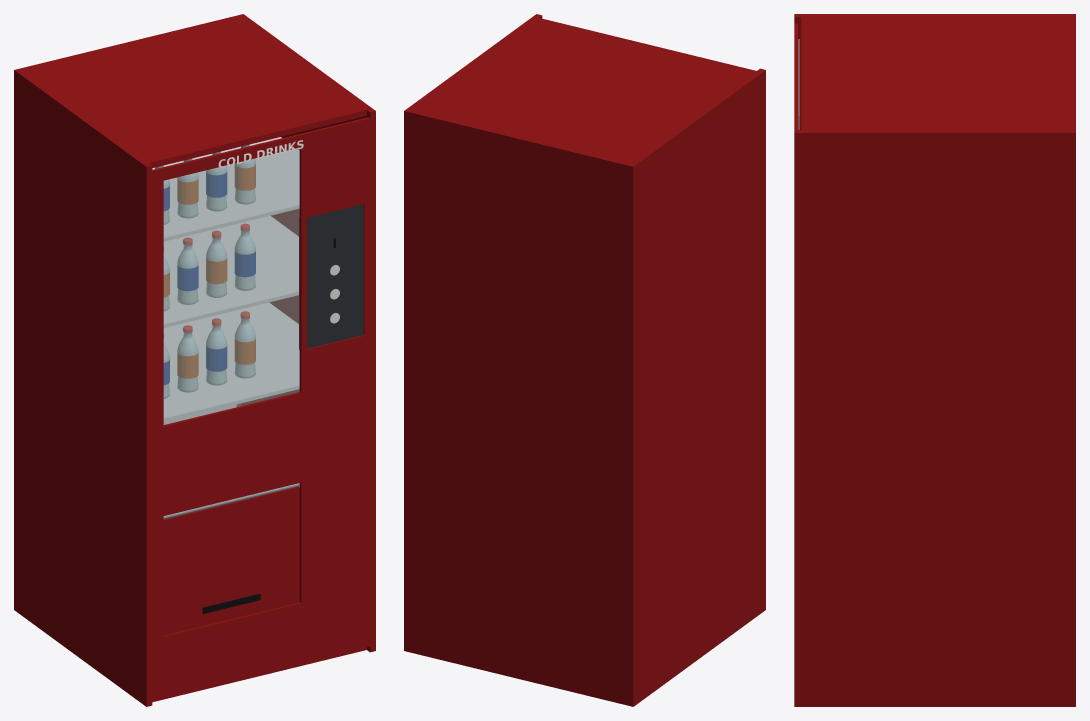
Rendered from vending-machine.glb.
3 renders of one model, left to right at view 1: azimuth 30°, elevation 25°; view 2: azimuth 150°, elevation 25°; view 3: azimuth 270°, elevation 25°, orthographic. The views are drawn at different scales.
Visible parts, largest first — view 1: Geom.038, Geom.035, Geom.041, Geom.033, Geom.042, Geom.028, Geom.030, Geom.024, Geom.026, Geom.020, Geom.027, Geom.036 (+13 smaller); view 2: Geom.013, Geom.038, Geom.041, Geom.040; view 3: Geom.040, Geom.041, Geom.038, Geom.013.
Boxes of the visible parts, x1,y1,x2,y2 form: Geom.038: (14, 68, 152, 706); Geom.035: (163, 148, 299, 424); Geom.041: (23, 18, 366, 167); Geom.033: (299, 334, 370, 602); Geom.042: (163, 486, 299, 635); Geom.028: (152, 586, 370, 699); Geom.030: (163, 392, 301, 515); Geom.024: (163, 302, 299, 421); Geom.026: (163, 216, 298, 327); Geom.020: (299, 204, 363, 349); Geom.027: (152, 137, 299, 241); Geom.036: (152, 181, 163, 639); Geom.013: (409, 110, 630, 705); Geom.038: (627, 68, 765, 706); Geom.041: (413, 18, 756, 162); Geom.040: (404, 14, 542, 652); Geom.040: (794, 130, 1075, 706); Geom.041: (801, 17, 1068, 129); Geom.038: (794, 14, 1075, 129); Geom.013: (1068, 17, 1075, 129).
Bounding box in the file's own units: 0.8 × 1.8 × 0.8005.
14 materials, 1 textured.
